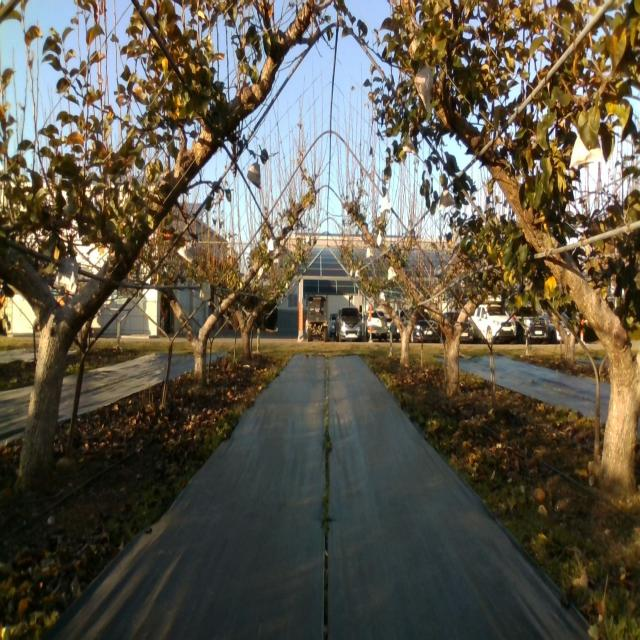pearbags: (569, 130, 602, 171), (413, 64, 435, 114), (55, 252, 79, 294), (246, 157, 262, 189), (178, 241, 195, 263), (439, 188, 454, 210)
